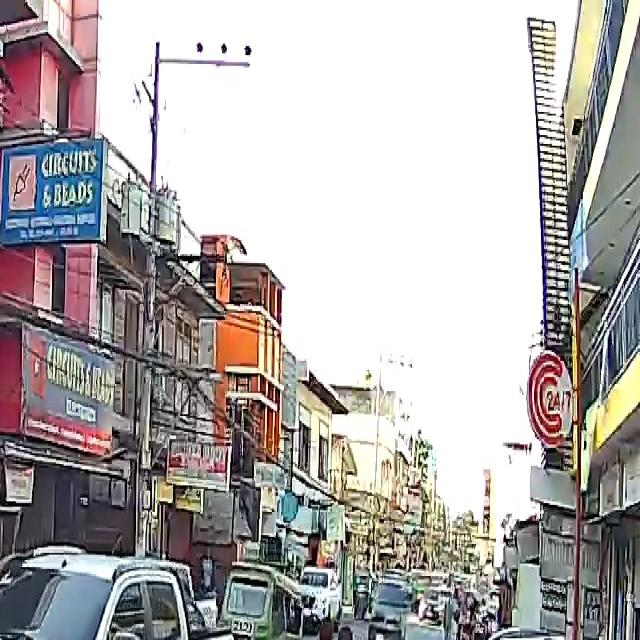car: (0, 546, 257, 640), (471, 626, 638, 640), (374, 580, 413, 624), (369, 613, 407, 640)
